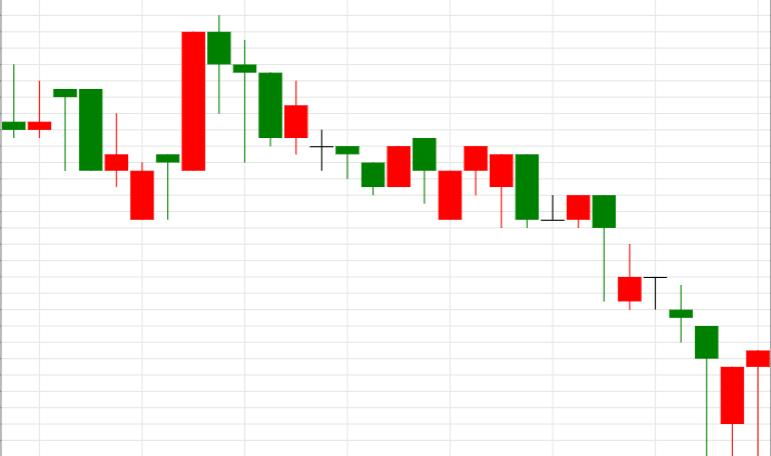hammer_rise: (516, 154, 719, 455)
